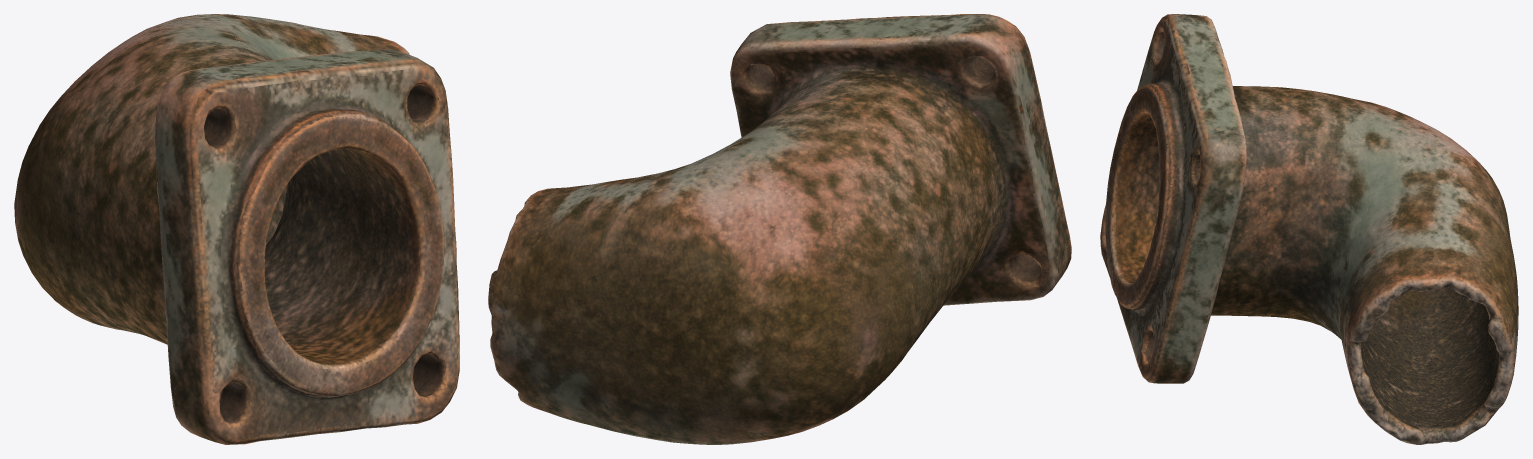
Rendered from raw.glb.
The picture shows the model from 3 angles, left to right: view 1: azimuth 30°, elevation 25°; view 2: azimuth 150°, elevation 25°; view 3: azimuth 270°, elevation 25°; orthographic projection. The views are drawn at different scales.
Size of the model in its own units: 0.889 by 0.818 by 1.01.
1 material, 1 textured.
